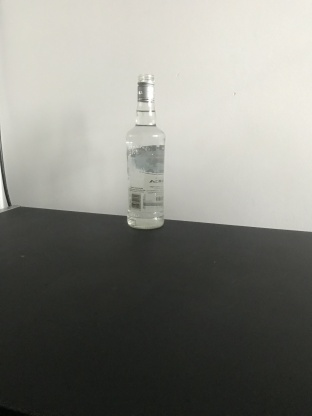nakretka: (135, 71, 156, 104)
